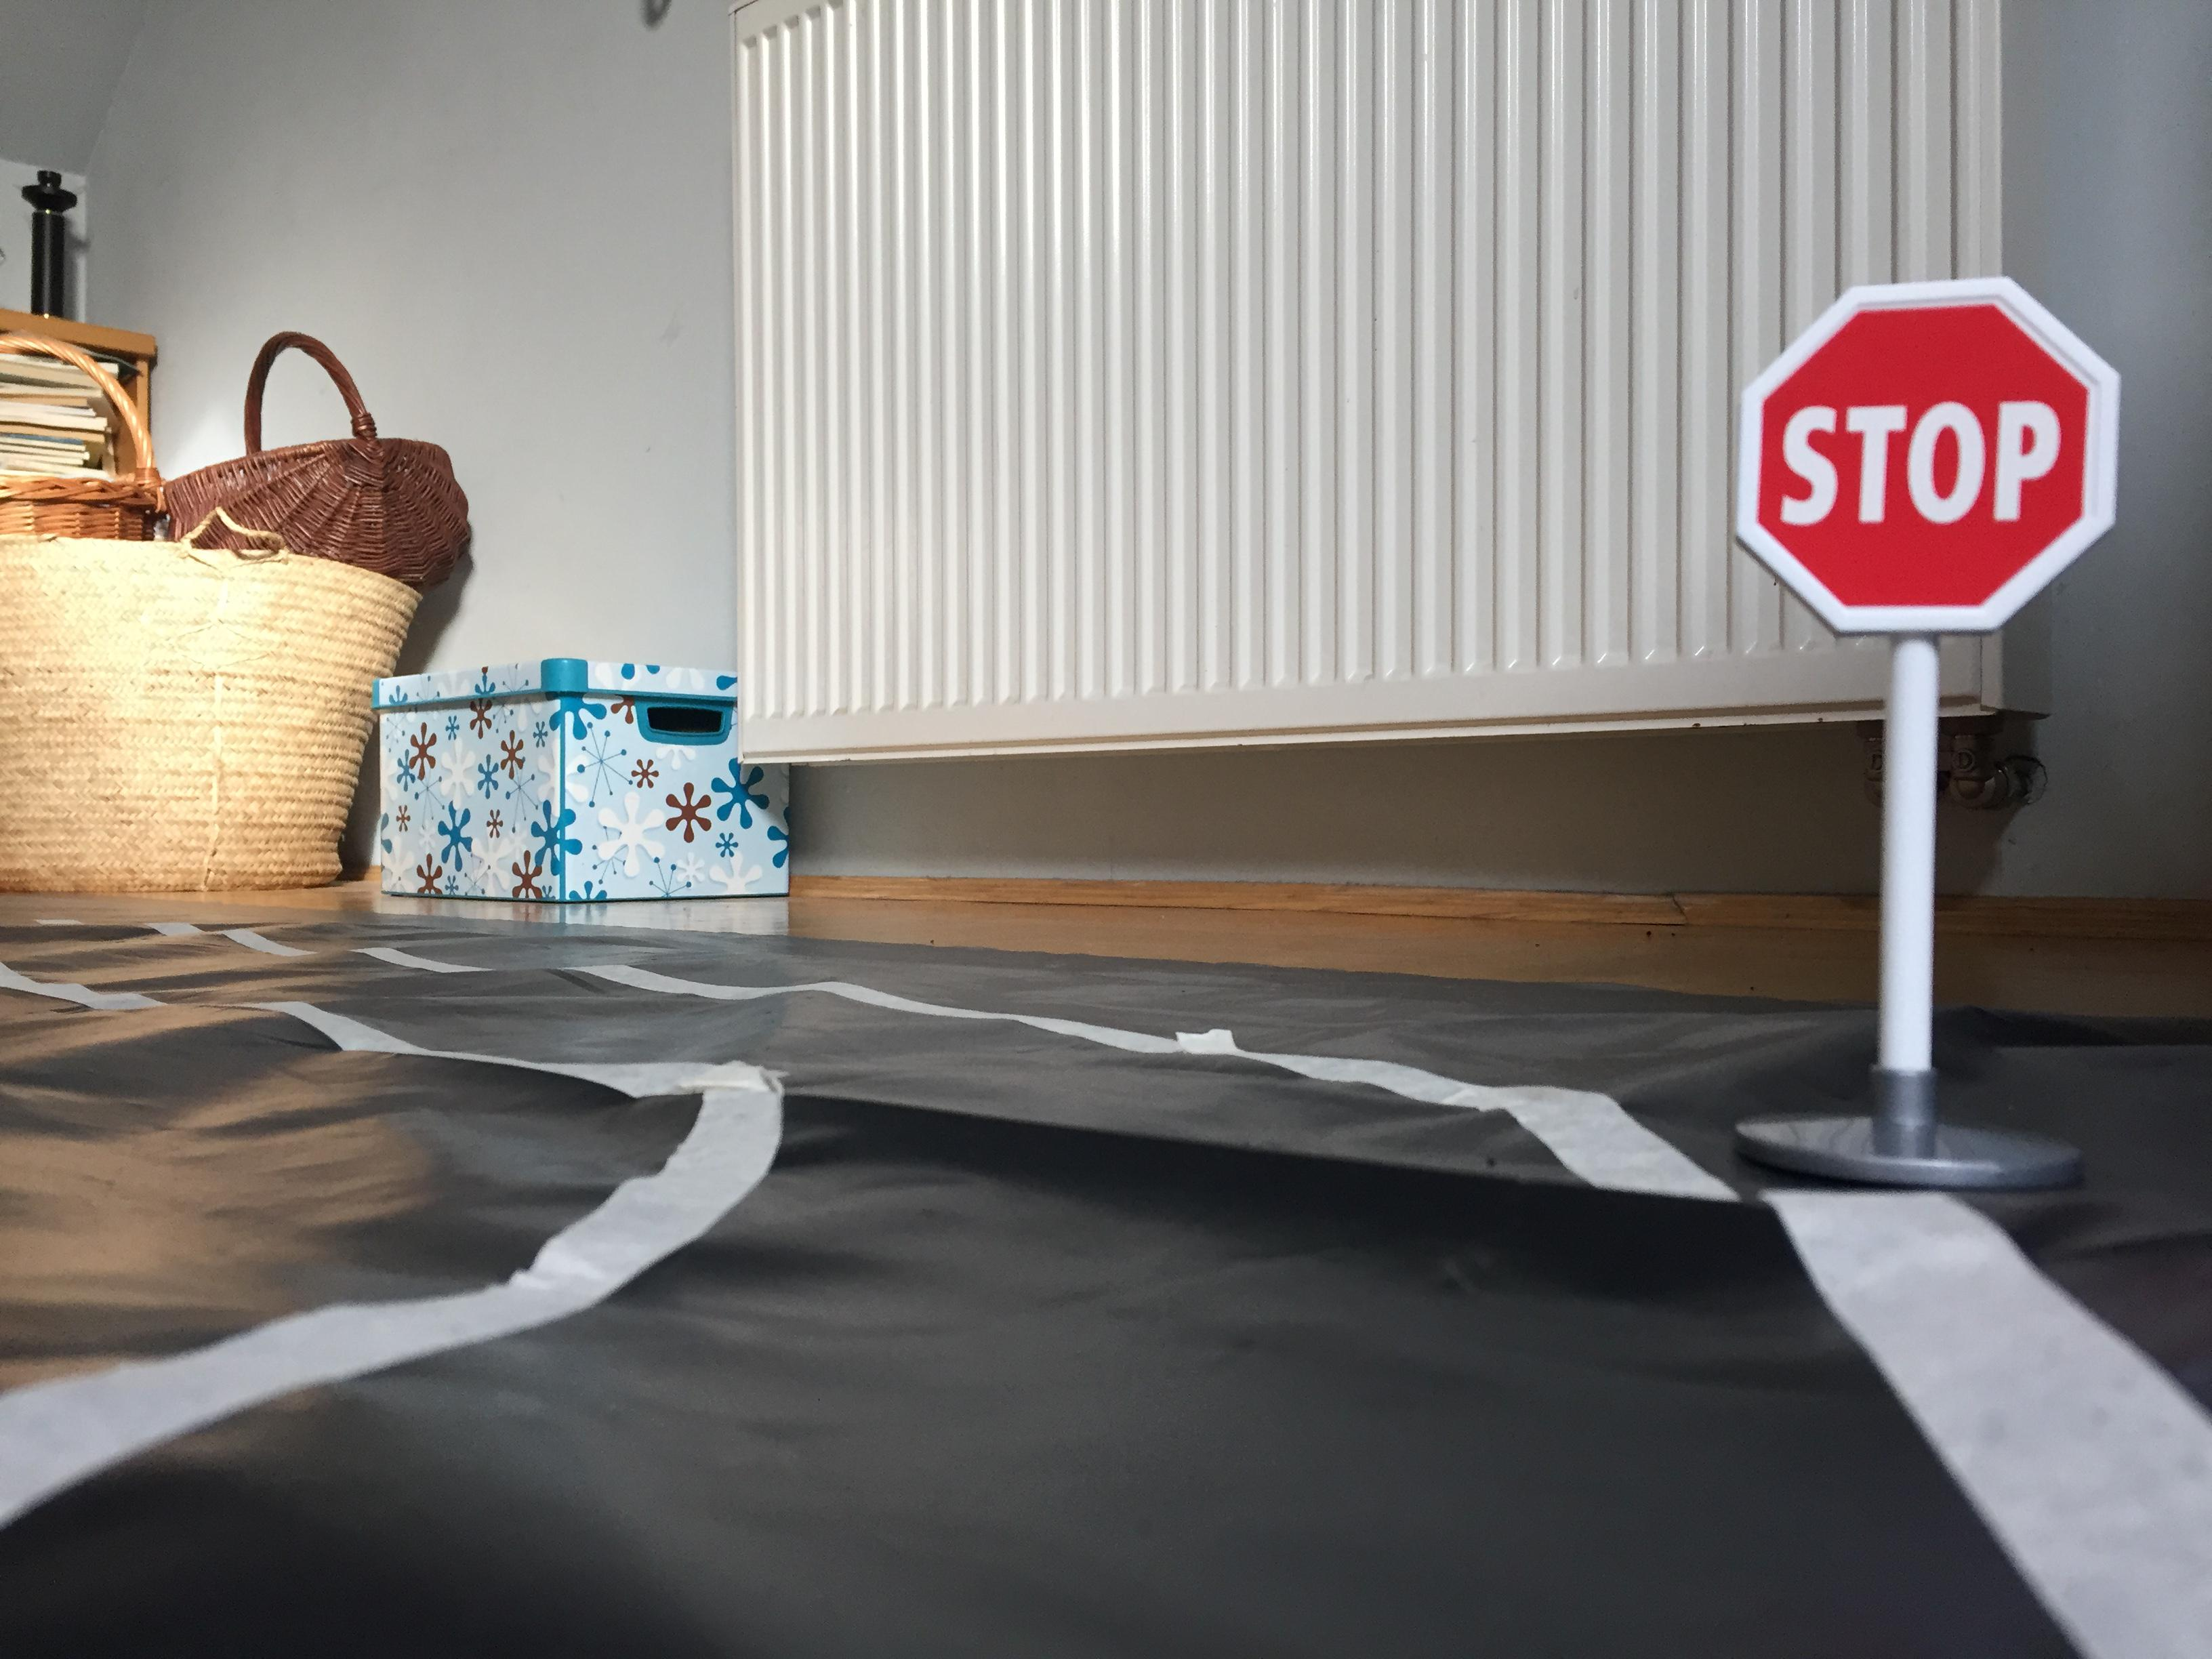stop: (1721, 263, 2141, 655)
